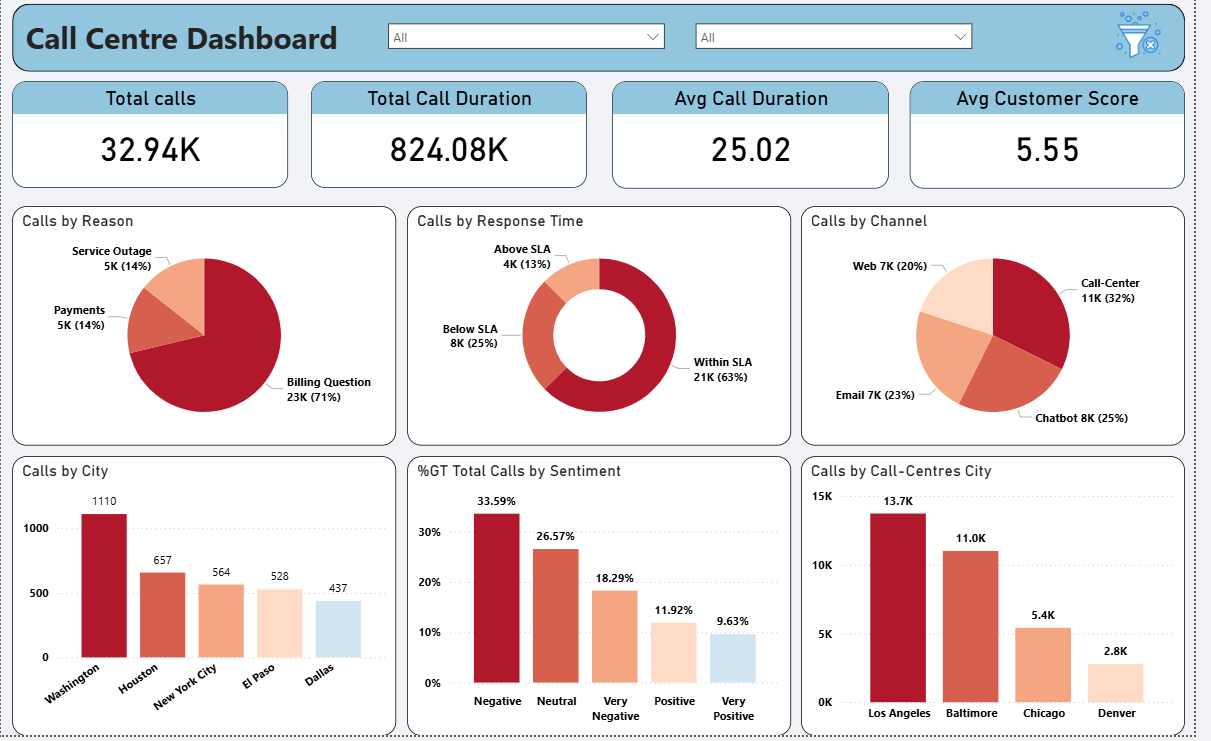

The dashboard page shown, as its layout file describes it:
{"tool":"powerbi","page":{"name":"Duplicate of Page 1","canvas":[1280,800],"ordinal":1},"visuals":[{"type":"group","id":"g1","title":"Group 1","box":[11.4,98.6,1258.6,115.7],"z":0},{"type":"card","title":"Total calls","fields":{"Values":["Measures Table.Measure"]},"box":[11.4,98.8,296.2,114.7],"z":0,"group":"g1"},{"type":"pieChart","title":"Calls by Channel","fields":{"Category":["Call+Center.Channel"],"Y":["Measures Table.Total Calls"]},"box":[858.3,231.4,411.6,257.1],"z":0,"group":"g2"},{"type":"columnChart","title":"Calls by Call-Centres City","fields":{"Category":["Call+Center.Call-Centres City"],"Y":["Measures Table.Total Calls"]},"box":[857.9,500,412,299.7],"z":0,"group":"g3"},{"type":"card","title":"Avg Call Duration","fields":{"Values":["Measures Table.Avg Call Duration"]},"box":[655.3,99.2,297.1,115.1],"z":1000,"group":"g1"},{"type":"group","id":"g2","title":"Group 2","box":[11.4,231.4,1258.6,257.1],"z":1000},{"type":"donutChart","title":"Calls by Response Time","fields":{"Category":["Call+Center.Response Time"],"Y":["Measures Table.Total Calls"]},"box":[435.6,231.4,411.6,257.1],"z":1000,"group":"g2"},{"type":"columnChart","title":"Calls by City","fields":{"Category":["Call+Center.City"],"Y":["Measures Table.Total Calls"]},"box":[11.4,500.3,411.8,299.7],"z":1000,"group":"g3"},{"type":"card","title":"Total Call Duration","fields":{"Values":["Measures Table.Total Call Duration"]},"box":[332.3,98.8,296.2,114.7],"z":2000,"group":"g1"},{"type":"pieChart","title":"Calls by Reason","fields":{"Category":["Call+Center.Reason"],"Y":["Measures Table.Total Calls"]},"box":[11.4,231.4,411.6,257.1],"z":2000,"group":"g2"},{"type":"group","id":"g3","title":"Group 3","box":[11.4,500,1258.6,300],"z":2000},{"type":"columnChart","fields":{"Y":["Measures Table.Total Calls"],"Category":["Call+Center.Sentiment"]},"box":[435.7,500.3,411.8,299.7],"z":2000,"group":"g3"},{"type":"shape","box":[11.4,14.3,1258.6,72.9],"z":3000},{"type":"card","title":"Avg Customer Score","fields":{"Values":["Measures Table.Measure"]},"box":[975,98.6,295,115.1],"z":3000,"group":"g1"},{"type":"textbox","box":[21.4,24.3,384.3,52.9],"z":4000},{"type":"slicer","fields":{"Values":["Call+Center.State"]},"box":[405.7,25.7,317.1,51.4],"z":5000},{"type":"slicer","fields":{"Values":["Call+Center.Reason"]},"box":[735.7,25.7,317.1,51.4],"z":6000},{"type":"image","box":[1185.7,18.6,70,58.6],"z":7000}]}

Visuals, with their boxes in screenshot pixels (x1, y1, x2, y2), scaled from the page's 1280x800 canvas onto the 1211x741 screenshot:
"Group 1" group: 11:91:1202:198
"Total calls" card: 11:92:291:198
"Calls by Channel" pieChart: 812:214:1201:452
"Calls by Call-Centres City" columnChart: 812:463:1201:740
"Avg Call Duration" card: 620:92:901:198
"Group 2" group: 11:214:1202:452
"Calls by Response Time" donutChart: 412:214:802:452
"Calls by City" columnChart: 11:463:400:740
"Total Call Duration" card: 314:92:595:198
"Calls by Reason" pieChart: 11:214:400:452
"Group 3" group: 11:463:1202:740
columnChart - Measures Table.Total Calls x Call+Center.Sentiment: 412:463:802:740
shape: 11:13:1202:81
"Avg Customer Score" card: 922:91:1202:198
textbox: 20:23:384:72
slicer - Call+Center.State: 384:24:684:71
slicer - Call+Center.Reason: 696:24:996:71
image: 1122:17:1188:72
